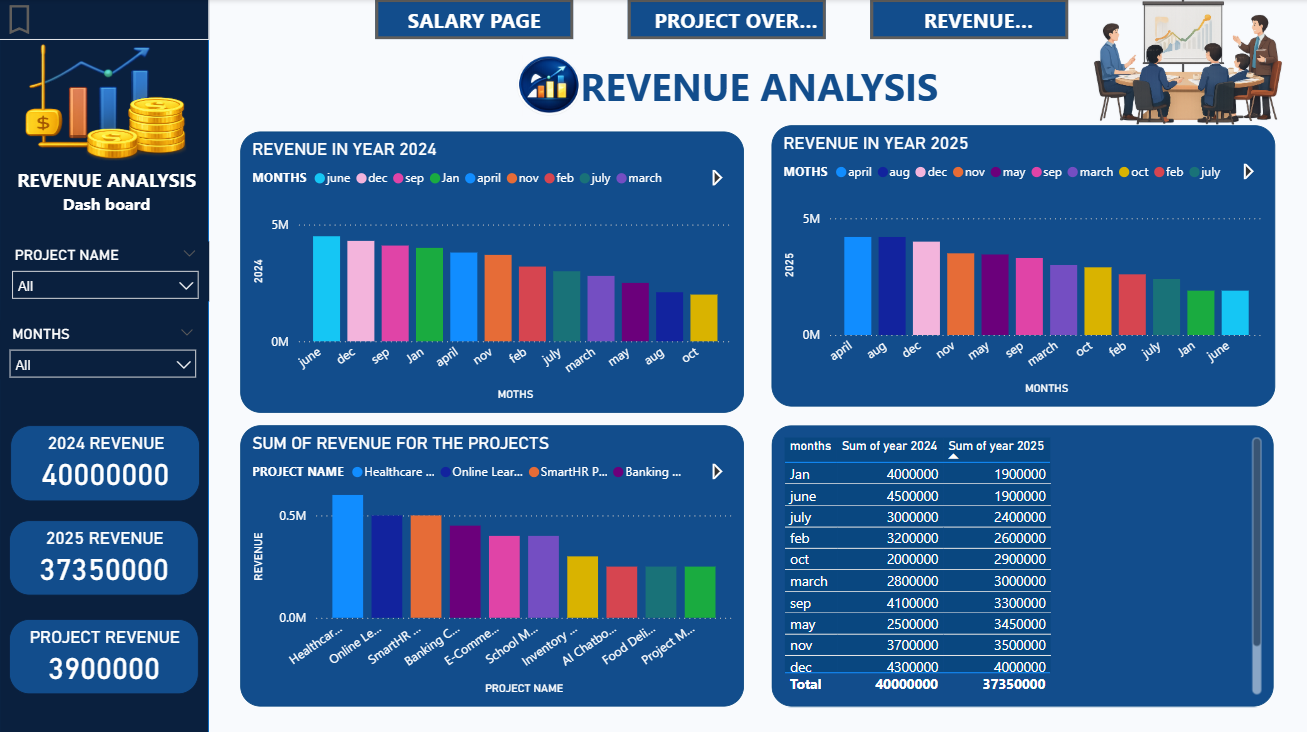

What the dashboard file says about the page in this screenshot:
{"tool":"powerbi","page":{"name":"Page 3","canvas":[1280,720],"ordinal":2},"visuals":[{"type":"columnChart","title":"REVENUE IN YEAR  2024 ","fields":{"Category":["Sheet4.Column1"],"Y":["Sum(Sheet4.year 2024)"],"Series":["Sheet4.Column1"]},"box":[90.5,78.3,530.7,281.3],"z":0},{"type":"columnChart","title":"REVENUE IN YEAR 2025","fields":{"Series":["Sheet4.Column1"],"Y":["Sum(Sheet4.year 2025)"],"Category":["Sheet4.Column1"]},"box":[682.3,78.3,529.5,280],"z":1000},{"type":"lineChart","title":"REVENUE OF 2024 AND 2025","fields":{"Category":["Sheet4.Column1"],"Y":["Sum(Sheet4.year 2025)","Sum(Sheet4.year 2024)"]},"box":[90.5,404.8,530.7,281.3],"z":2000},{"type":"tableEx","fields":{"Values":["Sheet4.Column1","Sum(Sheet4.year 2024)","Sum(Sheet4.year 2025)"]},"box":[682.3,404.8,529.5,281.3],"z":3000},{"type":"textbox","box":[0,0,1280.3,50.1],"z":4000}]}

Visuals, with their boxes on the page's 1280x720 design canvas (x1, y1, x2, y2). These are canvas units, not pixel positions in the 1307x732 screenshot, which may show the page scaled, cropped or inside an application window:
"REVENUE IN YEAR  2024 " columnChart: 90 78 621 360
"REVENUE IN YEAR 2025" columnChart: 682 78 1212 358
"REVENUE OF 2024 AND 2025" lineChart: 90 405 621 686
tableEx - Sheet4.Column1 x Sum(Sheet4.year 2024): 682 405 1212 686
textbox: 0 0 1280 50
